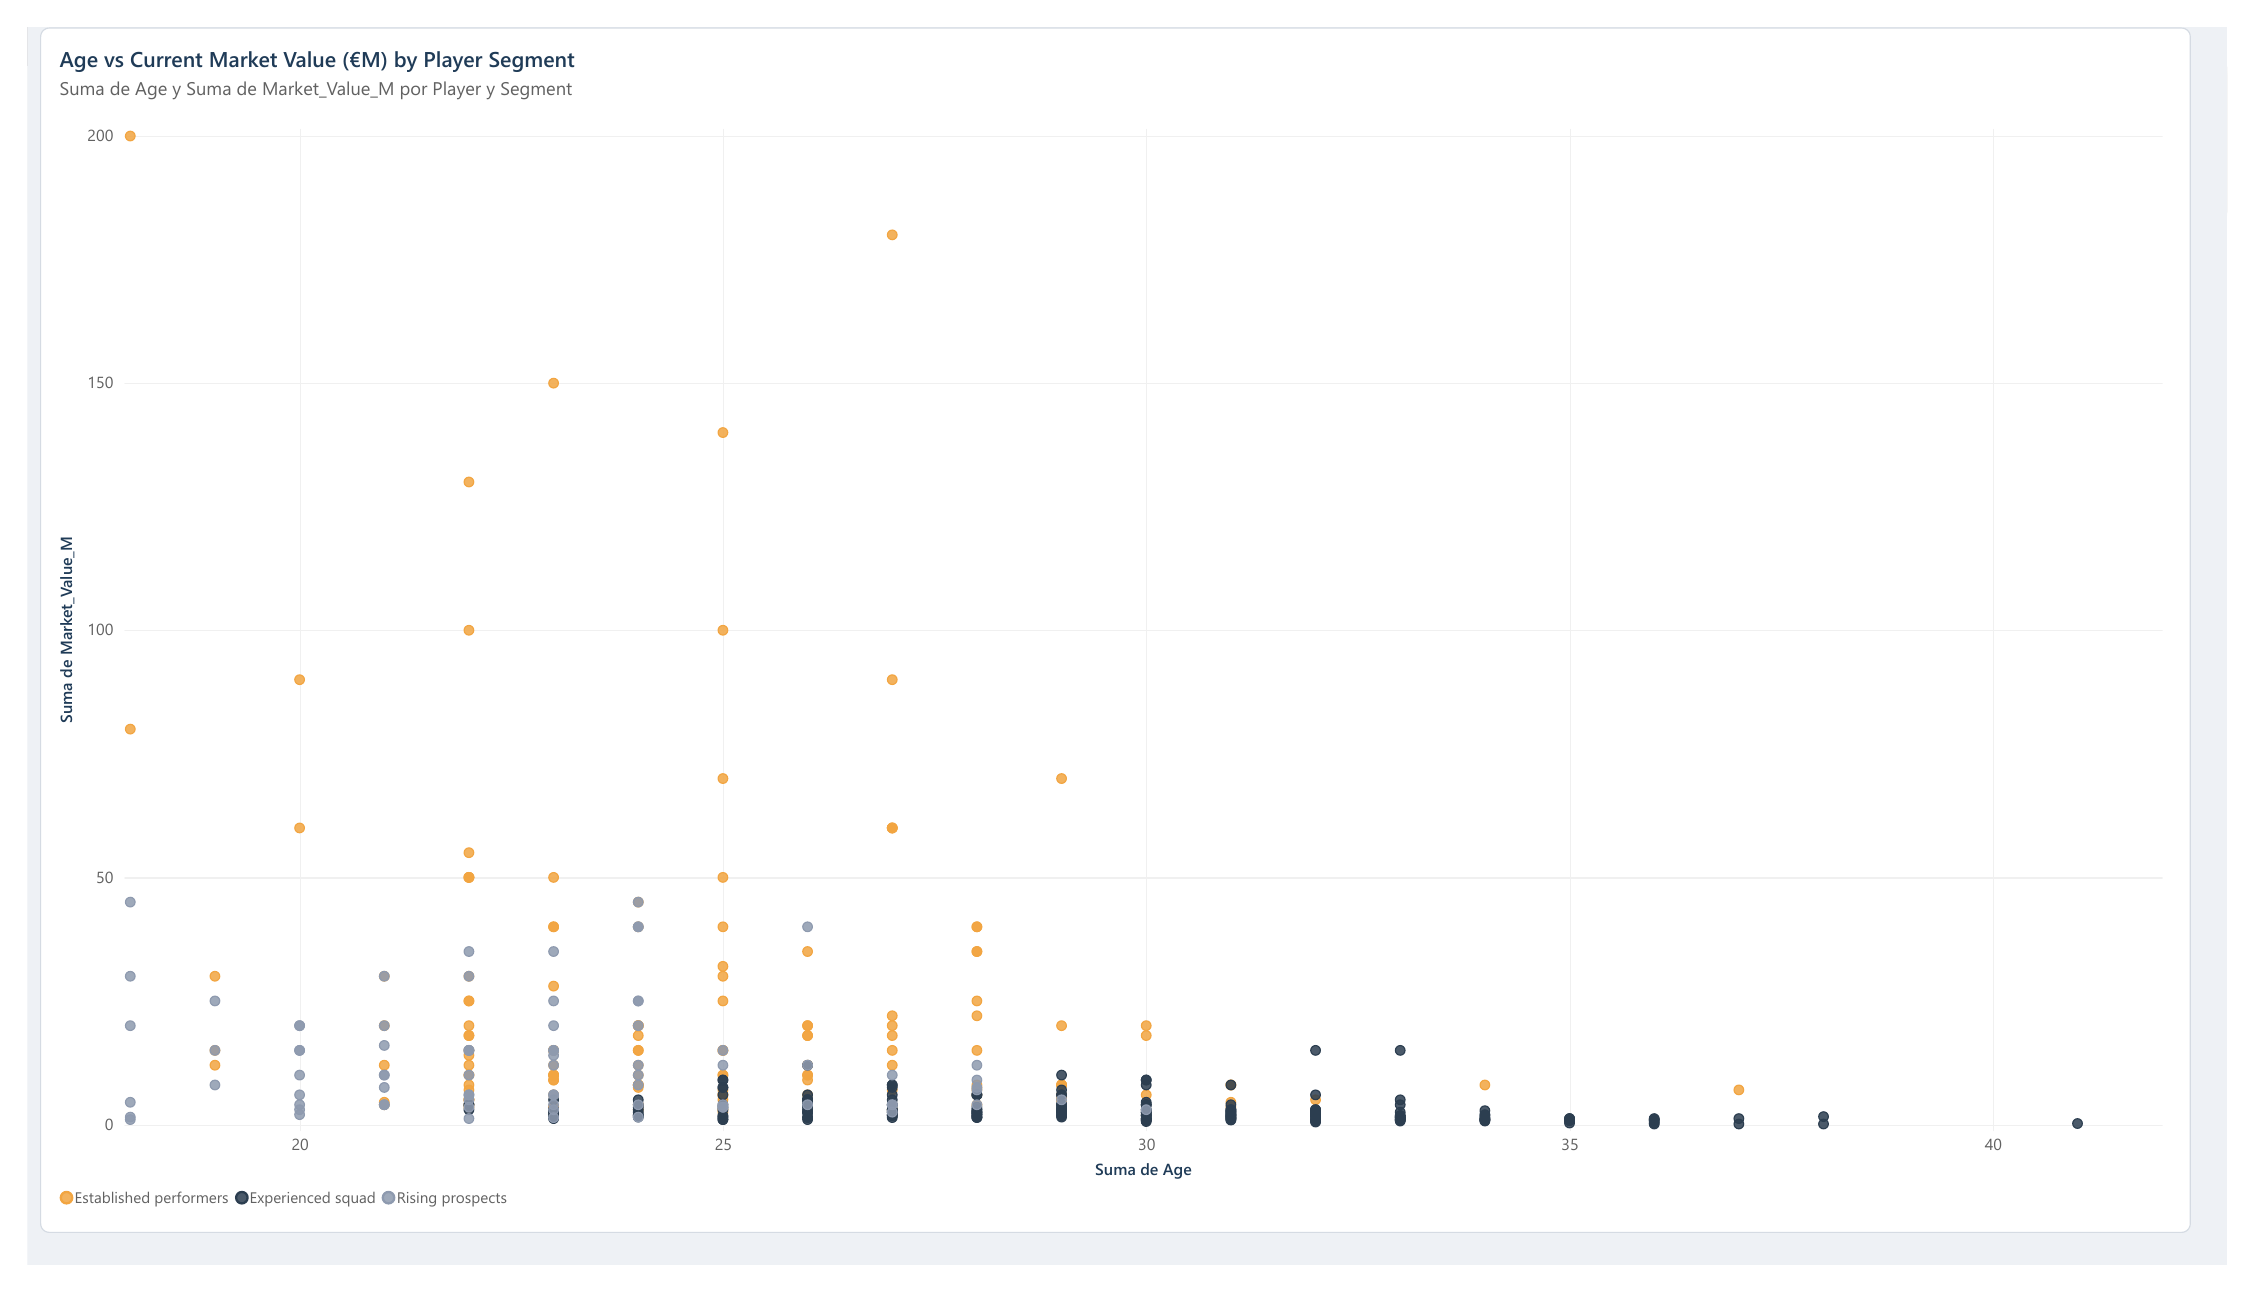

The page's visual inventory and layout, read from the dashboard file:
{"tool":"powerbi","page":{"name":"Age vs Value","canvas":[1920,1080],"ordinal":1},"visuals":[{"type":"scatterChart","title":"Age vs Current Market Value (€M) by Player Segment","fields":{"Category":["players_laliga_real_150.Player"],"X":["Sum(players_laliga_real_150.Age)"],"Series":["players_laliga_real_150.Segment"],"Y":["Sum(players_laliga_real_150.Market_Value_M)"]},"box":[10.8,0,1877,1051.9],"z":0}]}

Visuals, with their boxes in screenshot pixels (x1, y1, x2, y2), scaled from the page's 1920x1080 canvas onto the 2255x1293 screenshot:
"Age vs Current Market Value (€M) by Player Segment" scatterChart: 13/0/2217/1259
